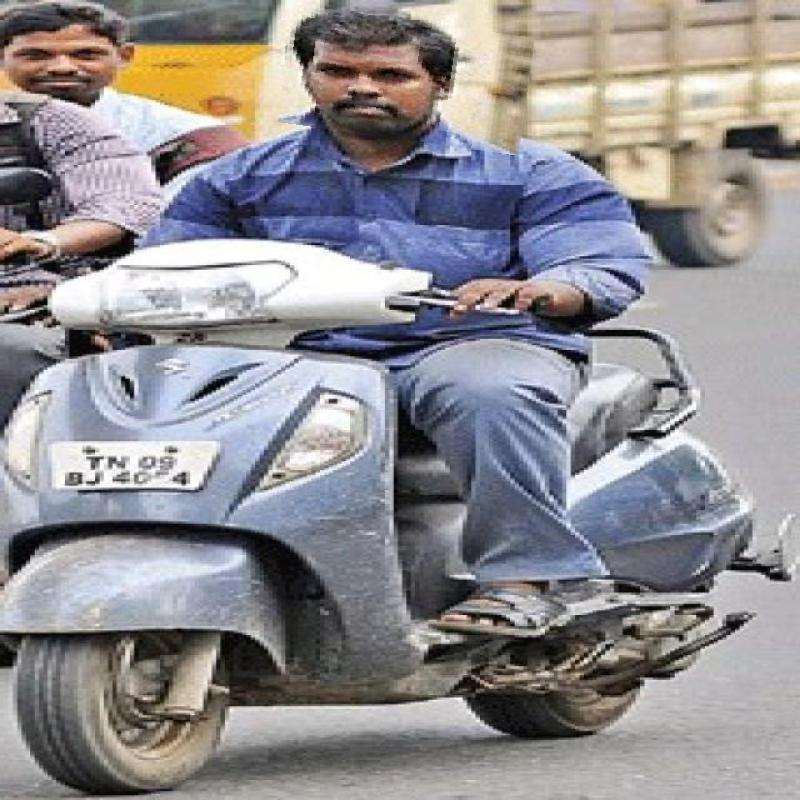nohelmet: (280, 12, 532, 147)
